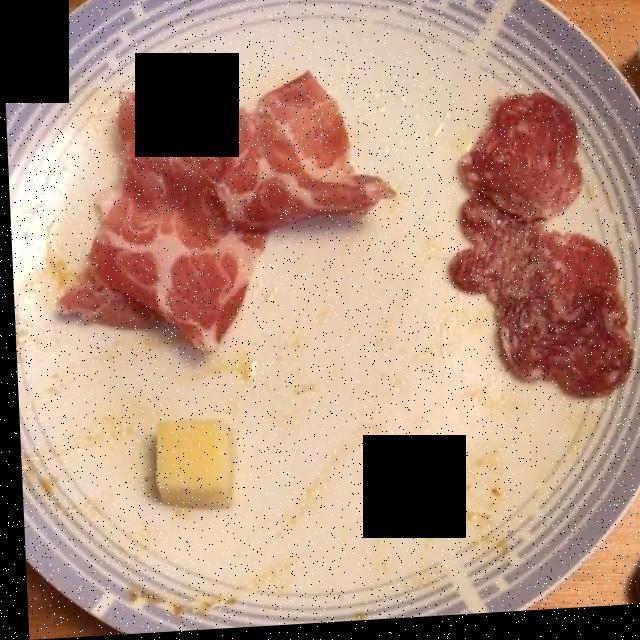cheese: (150, 415, 248, 520)
ham: (80, 76, 378, 344)
salami: (452, 98, 628, 401)
